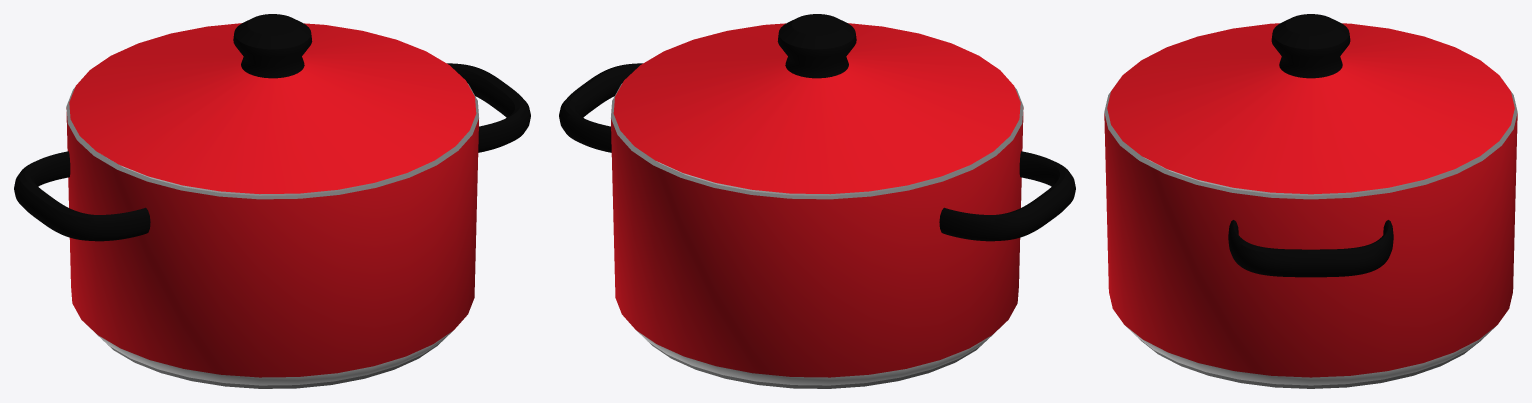
The model's file is garnek.fbx.
The picture shows the model from 3 angles, left to right: view 1: azimuth 30°, elevation 25°; view 2: azimuth 150°, elevation 25°; view 3: azimuth 270°, elevation 25°; orthographic projection.
Parts seen in each view (by area): view 1: Cylinder; view 2: Cylinder; view 3: Cylinder.
Part boxes in pixels (left/top/right/bottom): Cylinder: left=14, top=14, right=530, bottom=388; Cylinder: left=559, top=14, right=1075, bottom=388; Cylinder: left=1104, top=14, right=1517, bottom=388.
Bounding box in the file's own units: 266 × 153 × 200.
